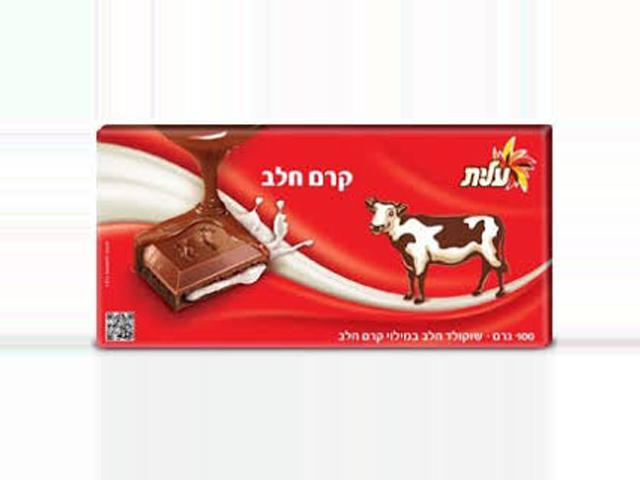chocolate: (95, 123, 560, 352)
